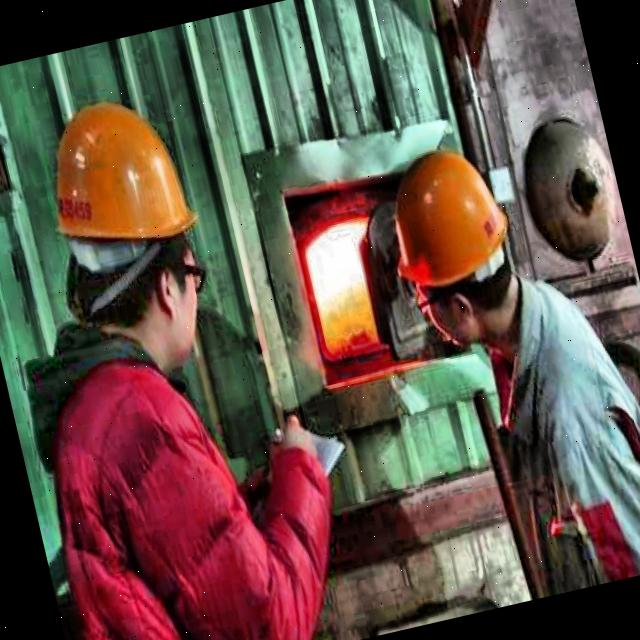helmet: (12, 60, 239, 399), (365, 120, 545, 367)
